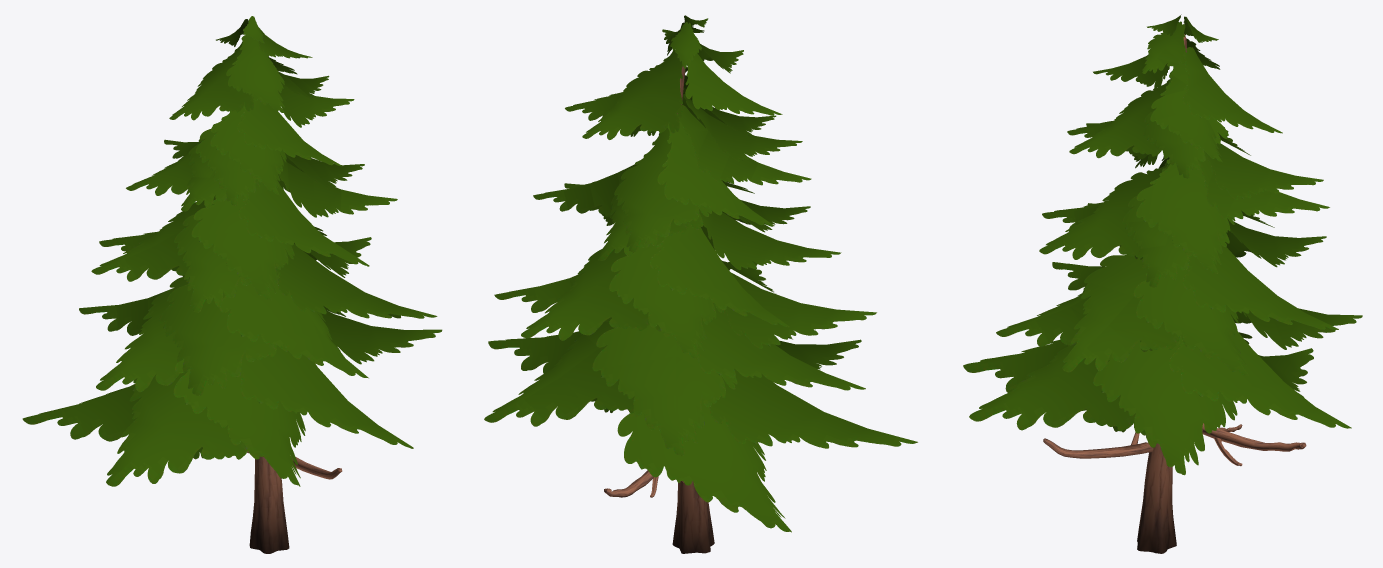
File: Pine_2.glb
3 renders of one model, left to right at view 1: azimuth 30°, elevation 25°; view 2: azimuth 150°, elevation 25°; view 3: azimuth 270°, elevation 25°, orthographic. The views are drawn at different scales.
Visible parts, largest first — view 1: Pine_2; view 2: Pine_2; view 3: Pine_2.
Boxes of the visible parts, left/top/right/bottom form: Pine_2: left=22, top=16, right=442, bottom=553; Pine_2: left=484, top=15, right=917, bottom=553; Pine_2: left=963, top=14, right=1362, bottom=553.
Bounding box in the file's own units: 5.73 × 7.38 × 5.22.
Materials: 2 (2 with a texture image).
